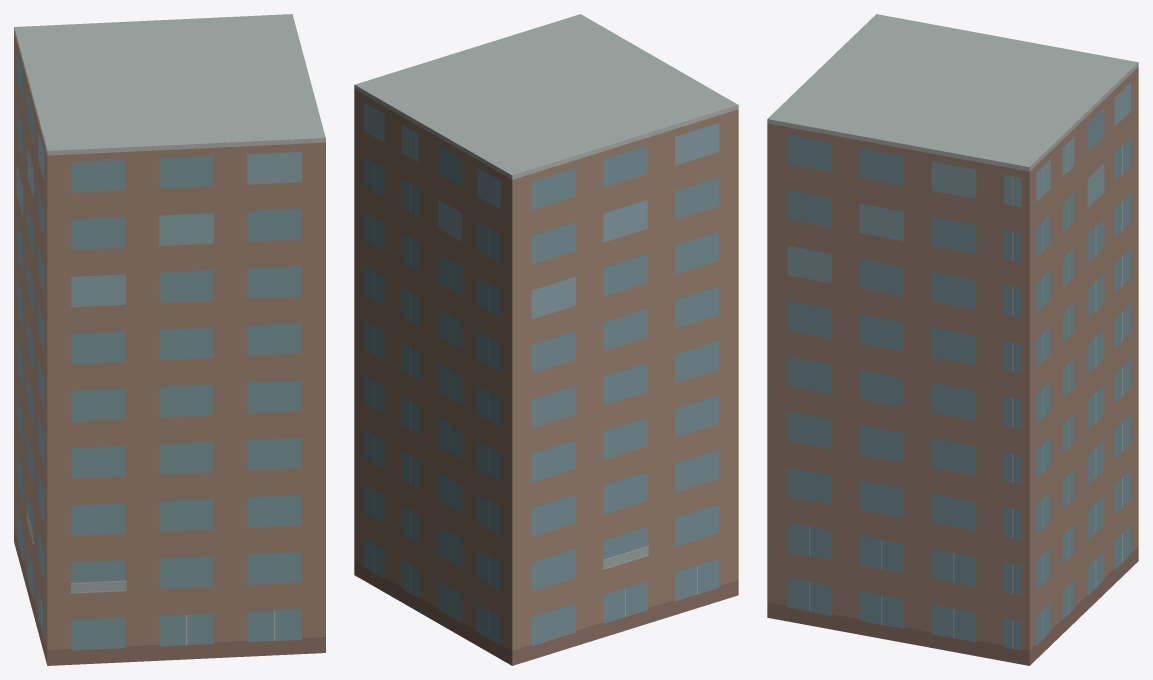
Rendered from survey-upis-32845984.glb.
3 views of the same model, side by side, from view 1: azimuth 30°, elevation 25°; view 2: azimuth 150°, elevation 25°; view 3: azimuth 270°, elevation 25° (orthographic). The views are drawn at different scales.
Visible parts, largest first — view 1: survey-upis-32845984.tmp; view 2: survey-upis-32845984.tmp; view 3: survey-upis-32845984.tmp.
Part boxes in pixels (<box>): survey-upis-32845984.tmp: <box>14,14,325,665</box>; survey-upis-32845984.tmp: <box>354,14,738,665</box>; survey-upis-32845984.tmp: <box>767,14,1138,665</box>.
Size of the model in its own units: 18.1 by 27.45 by 18.53.
